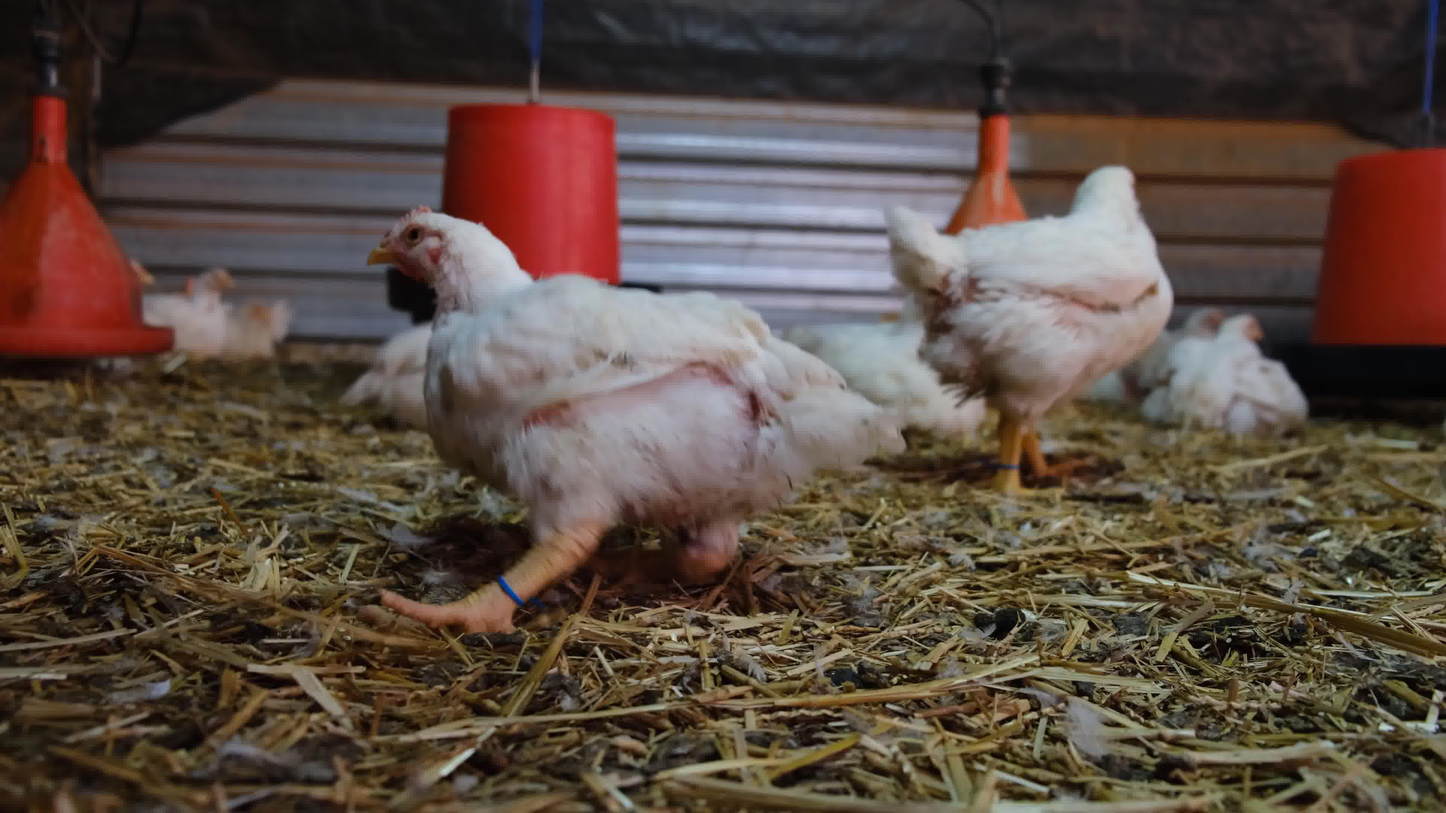AbNormal: (365, 201, 898, 647), (783, 307, 1019, 457), (335, 307, 471, 438), (1199, 309, 1312, 440), (1175, 282, 1246, 429), (222, 292, 305, 367)
Normal: (883, 145, 1177, 480), (130, 260, 256, 376)
